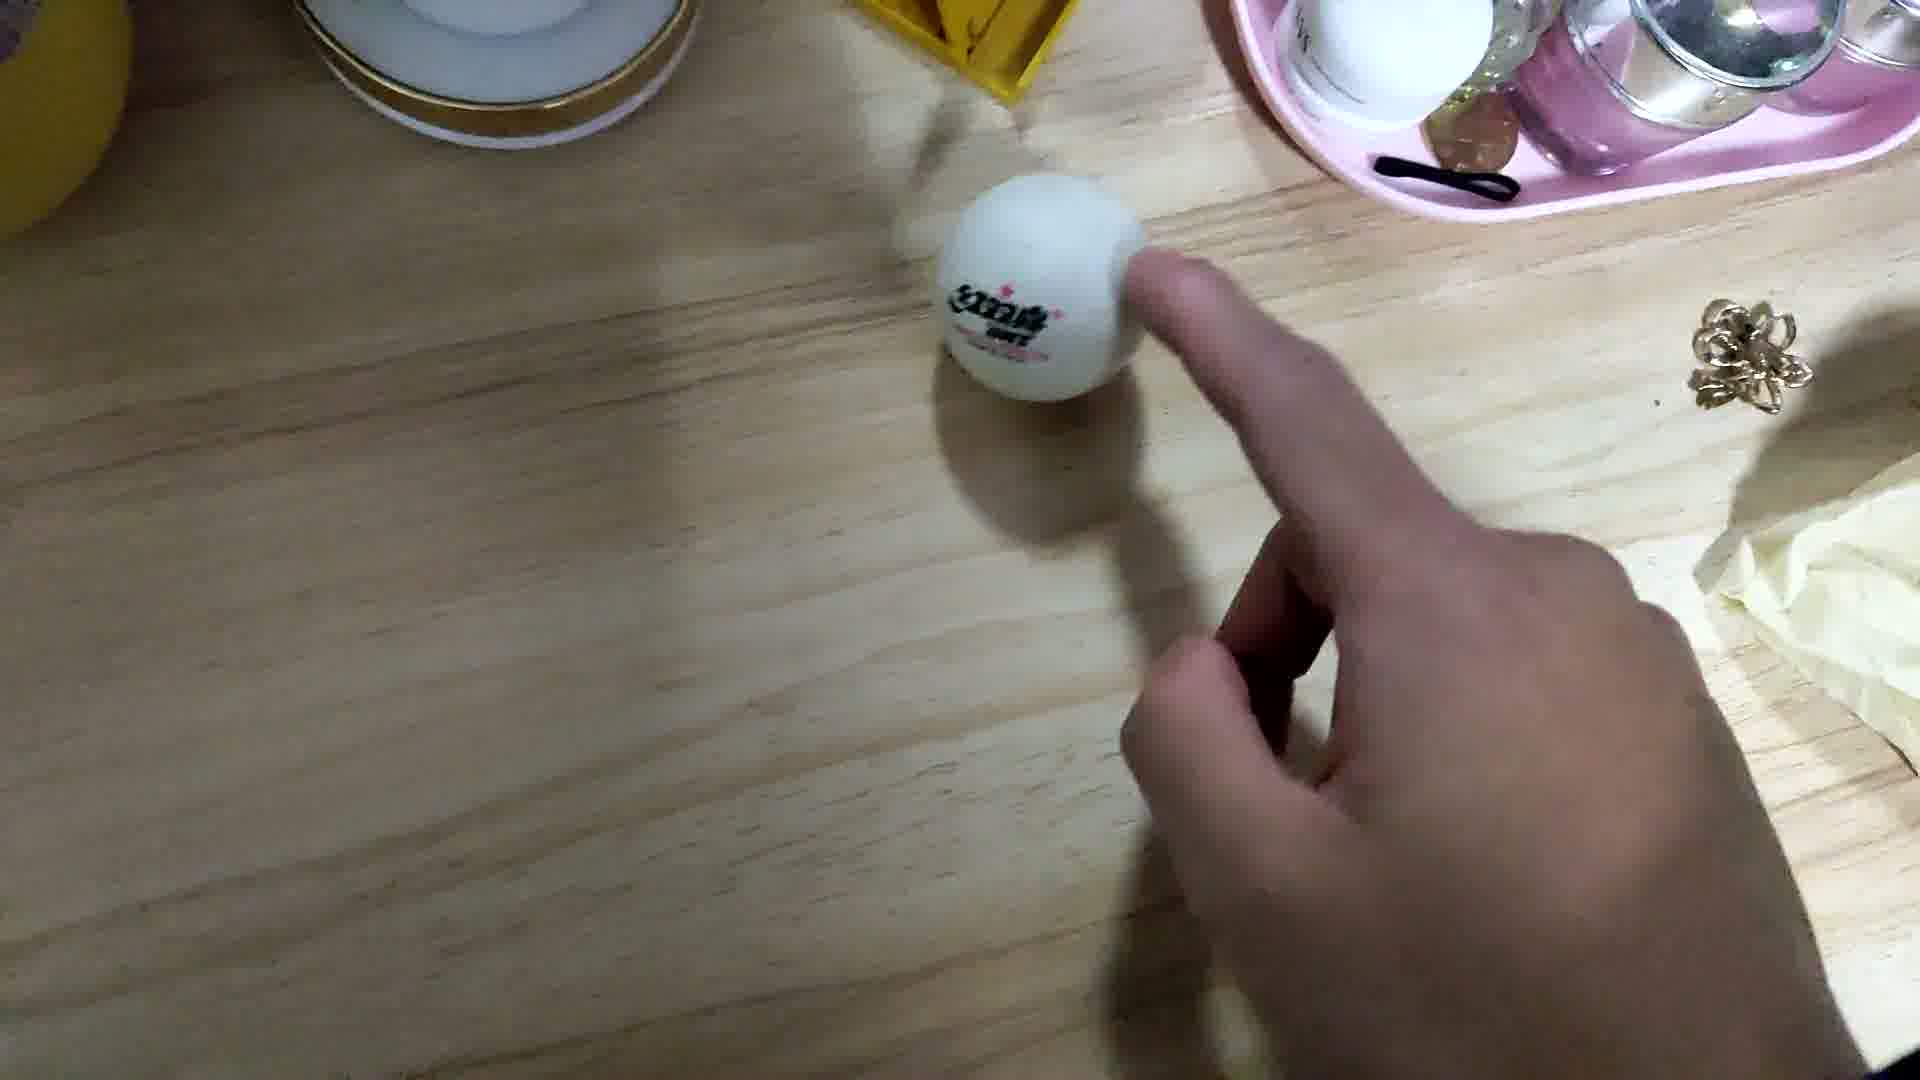Ball: (930, 177, 1154, 400)
